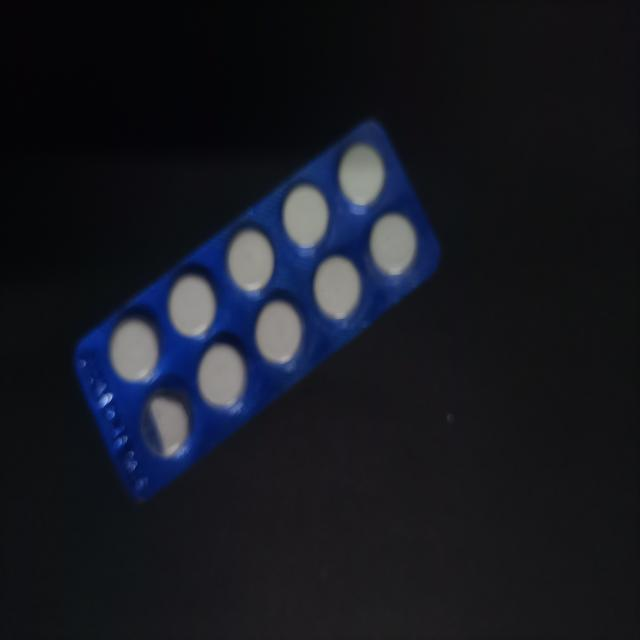defect: (138, 386, 196, 465)
